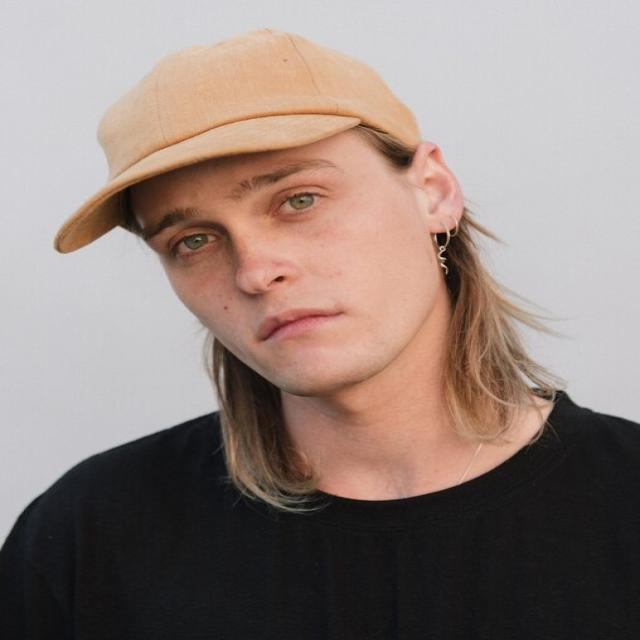Nonhelmet: (49, 25, 497, 416)
